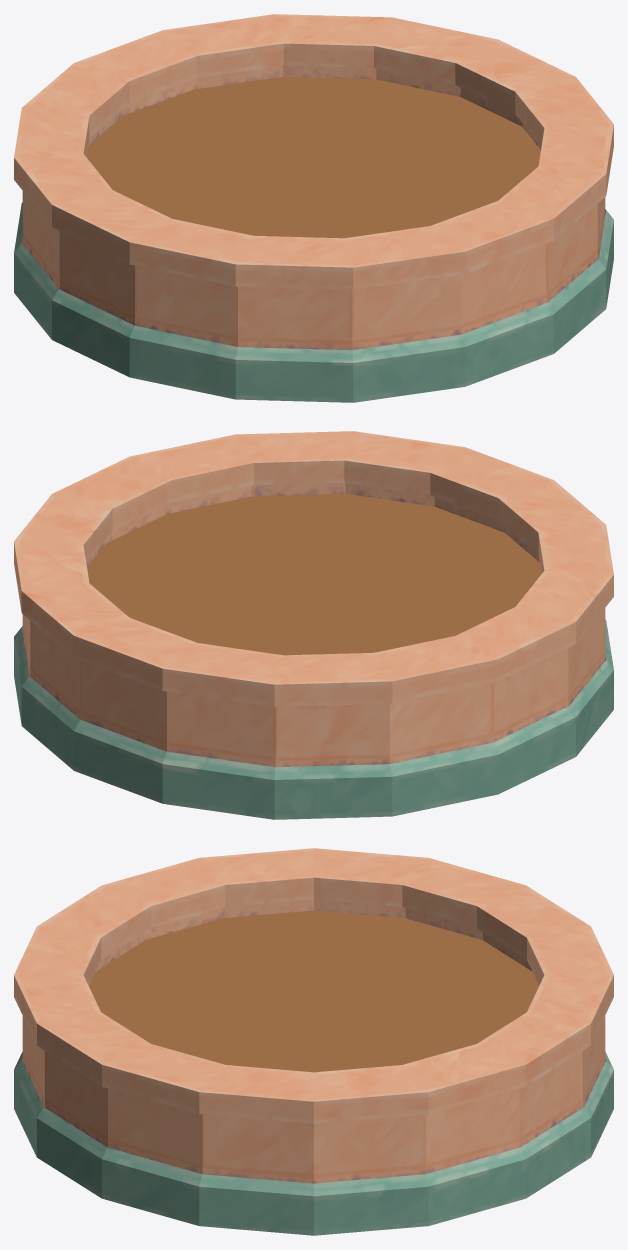
Rendered from vat_saffron.fbx.
3 renders of one model, top to bottom at view 1: azimuth 30°, elevation 25°; view 2: azimuth 150°, elevation 25°; view 3: azimuth 270°, elevation 25°, orthographic.
Visible parts, largest first — view 1: vat_saffron; view 2: vat_saffron; view 3: vat_saffron.
Part boxes in pixels (left/top/right/bottom): vat_saffron: left=14, top=14, right=613, bottom=402; vat_saffron: left=14, top=431, right=613, bottom=819; vat_saffron: left=14, top=848, right=613, bottom=1235.
Size of the model in its own units: 6.9 by 1.7 by 6.9.
Materials: 1 (1 with a texture image).
